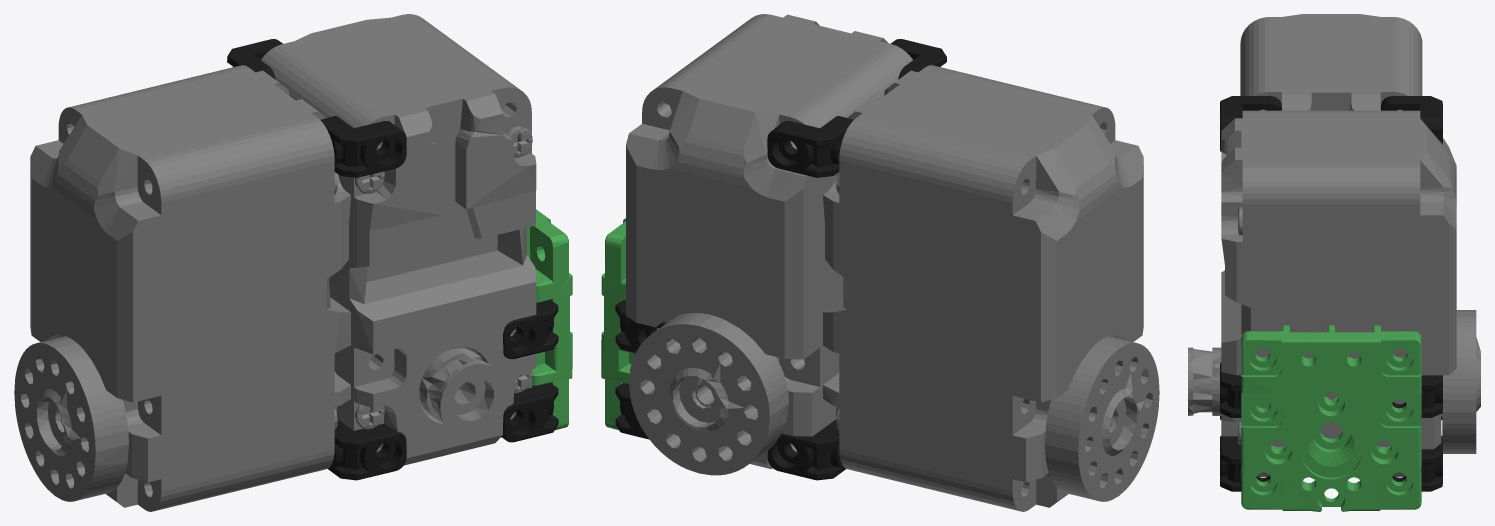
File: bone24.DAE
3 renders of one model, left to right at view 1: azimuth 30°, elevation 25°; view 2: azimuth 150°, elevation 25°; view 3: azimuth 270°, elevation 25°, orthographic. The views are drawn at different scales.
Parts seen in each view (by area): view 1: through_all_screw_holes (×2), Imported1 (×6), screw_holes, O3.0__3__Diameter_Hole1; view 2: through_all_screw_holes (×2), screw_holes (×2), Imported1 (×6); view 3: through_all_screw_holes (×2), Imported1 (×7), screw_holes, O3.0__3__Diameter_Hole1.
Boxes of the visible parts, x1=… form: through_all_screw_holes (×2): x1=30, y1=14, x2=536, y2=511; Imported1 (×6): x1=227, y1=39, x2=572, y2=480; screw_holes: x1=14, y1=336, x2=128, y2=501; O3.0__3__Diameter_Hole1: x1=419, y1=348, x2=506, y2=434; through_all_screw_holes (×2): x1=626, y1=14, x2=1143, y2=511; screw_holes (×2): x1=629, y1=313, x2=1159, y2=501; Imported1 (×6): x1=601, y1=39, x2=946, y2=480; through_all_screw_holes (×2): x1=1221, y1=14, x2=1456, y2=477; Imported1 (×7): x1=1220, y1=96, x2=1442, y2=511; screw_holes: x1=1441, y1=310, x2=1480, y2=453; O3.0__3__Diameter_Hole1: x1=1188, y1=347, x2=1221, y2=415.
Bounding box in the file's own units: 63.7 × 38.6 × 46.05.
